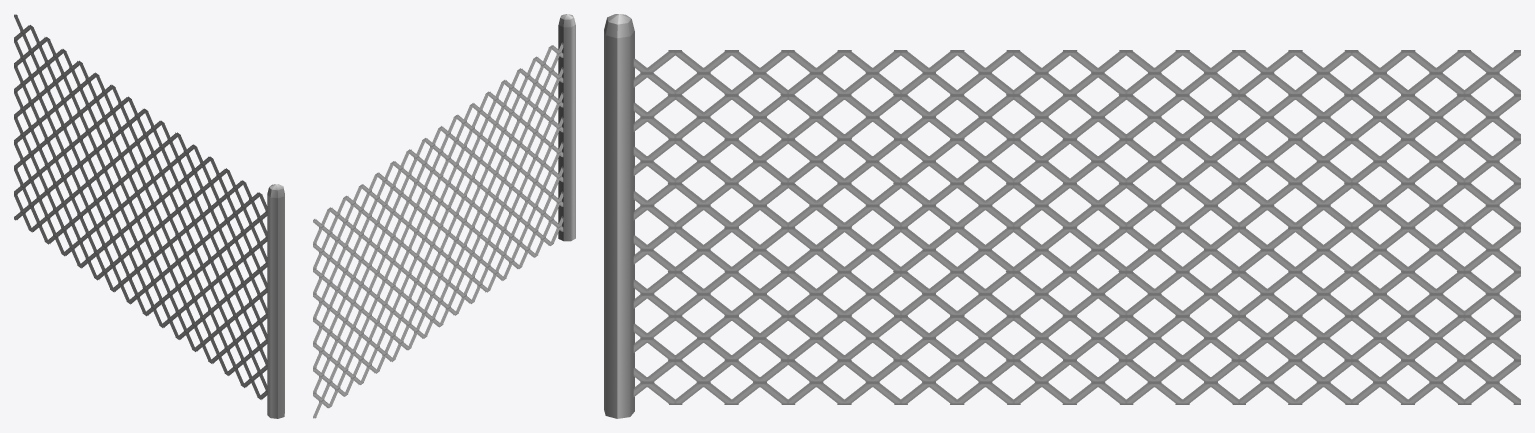
File: MetalStartFenceShort.fbx
3 renders of one model, left to right at view 1: azimuth 30°, elevation 25°; view 2: azimuth 150°, elevation 25°; view 3: azimuth 270°, elevation 25°, orthographic. The views are drawn at different scales.
Parts seen in each view (by area): view 1: Plane#2, Cylinder#2; view 2: Plane#2, Cylinder#2; view 3: Plane#2, Cylinder#2.
Boxes of the visible parts, x1=… form: Plane#2: x1=14, y1=14, x2=267, y2=399; Cylinder#2: x1=267, y1=184, x2=284, y2=418; Plane#2: x1=313, y1=42, x2=563, y2=418; Cylinder#2: x1=558, y1=14, x2=575, y2=241; Plane#2: x1=633, y1=50, x2=1520, y2=404; Cylinder#2: x1=604, y1=14, x2=634, y2=418.
Size of the model in its own units: 0.1363 by 1.95 by 4.07.
2 materials, 2 textured.
